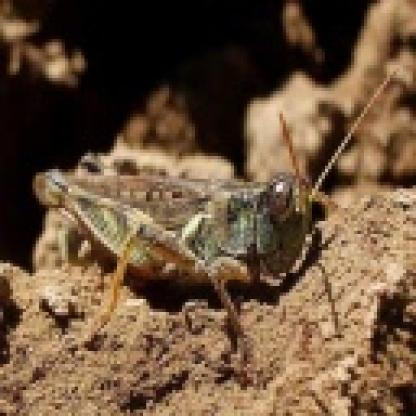grasshopper: (38, 112, 356, 323)
